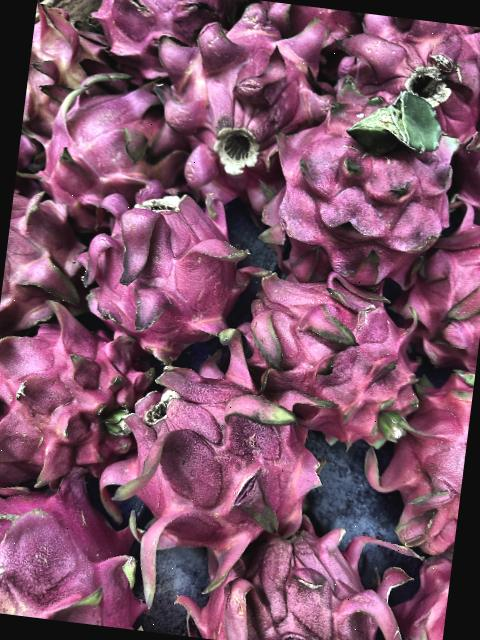buah-naga-belum-matang: (23, 4, 114, 134)
buah-naga-matang: (104, 322, 322, 545), (259, 76, 460, 292), (232, 255, 439, 450), (140, 0, 335, 191), (75, 177, 256, 350), (0, 287, 151, 485), (187, 513, 412, 640), (0, 460, 157, 630), (40, 64, 189, 224), (330, 10, 480, 149), (381, 362, 476, 558), (400, 192, 480, 381), (0, 192, 97, 325), (85, 0, 240, 76), (397, 551, 452, 640)
